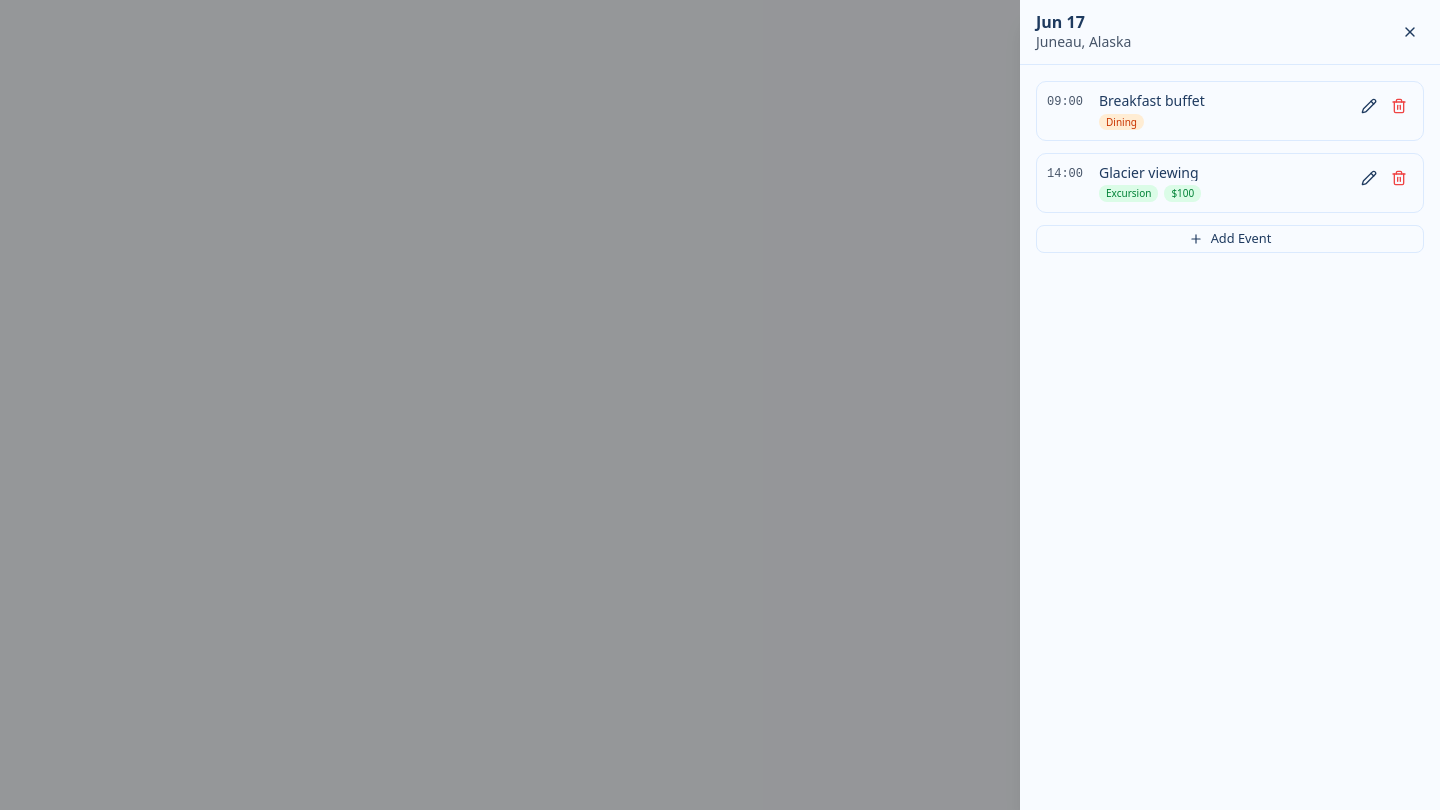
Test: DayDetailDrawer › should show event form when Add Event is clicked
The width and height of the screenshot is (1440, 810).
Click the button "Add Event" at (1230, 239), box [1036, 225, 1424, 253]
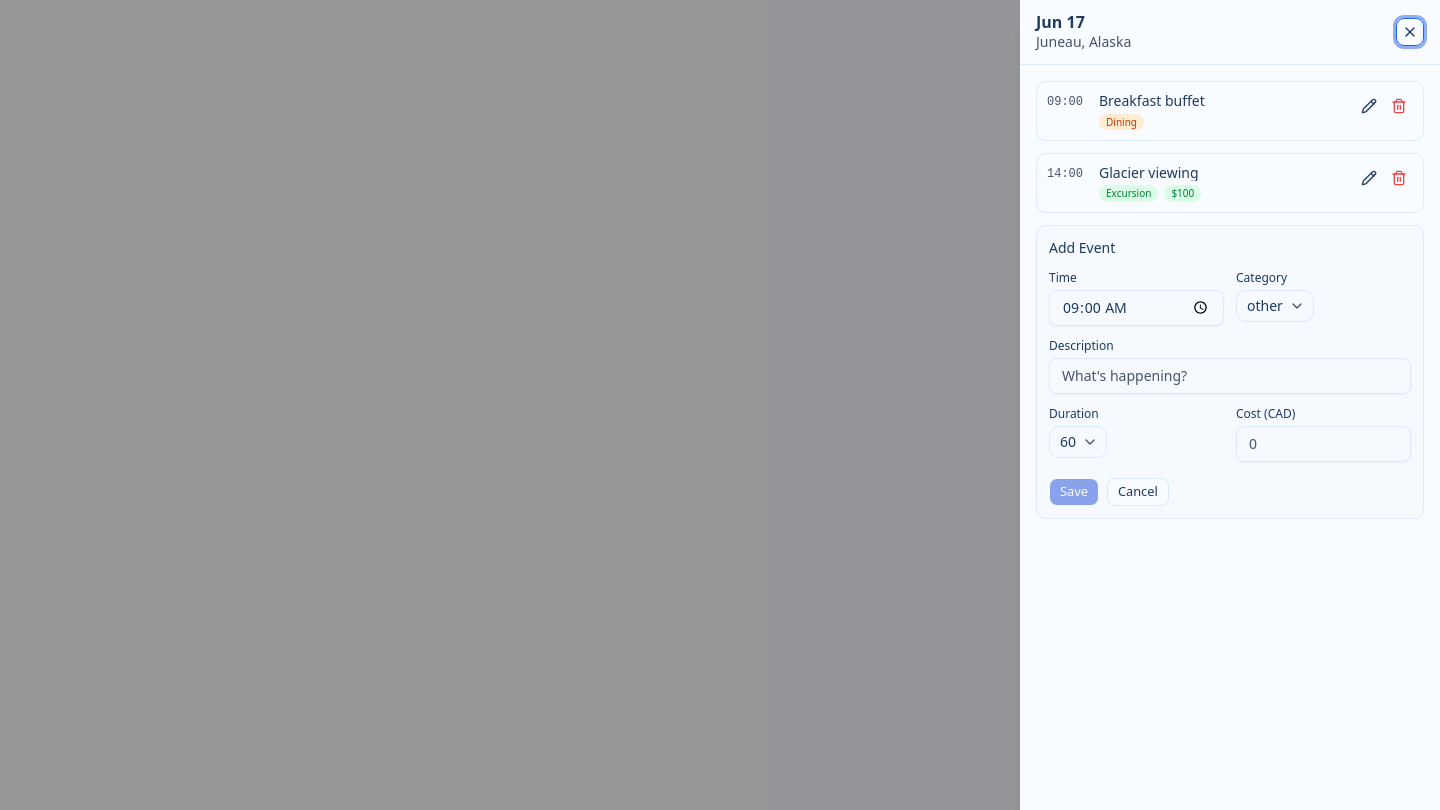
expect the field with id "event-description" is shown: met, box [1049, 358, 1411, 394]
